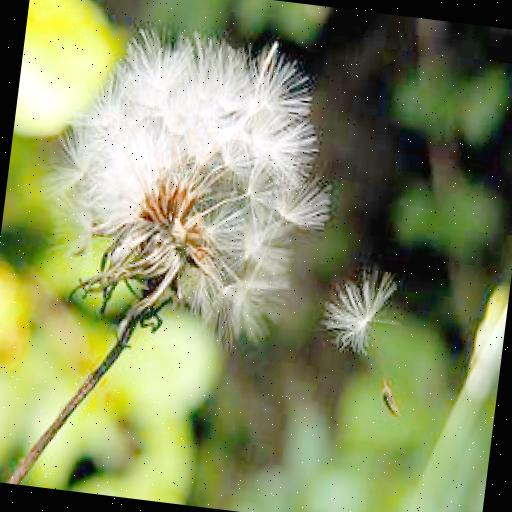dandelion: (50, 18, 335, 349)
